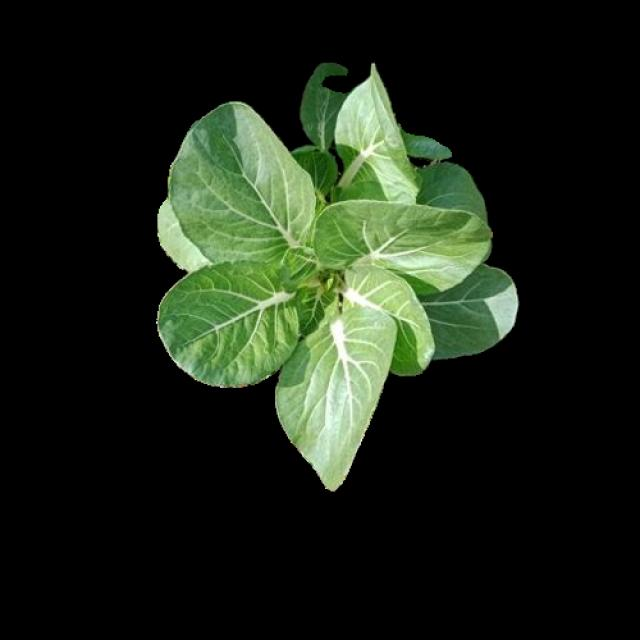healthy: (157, 82, 516, 481)
not-mature: (157, 68, 518, 484)
